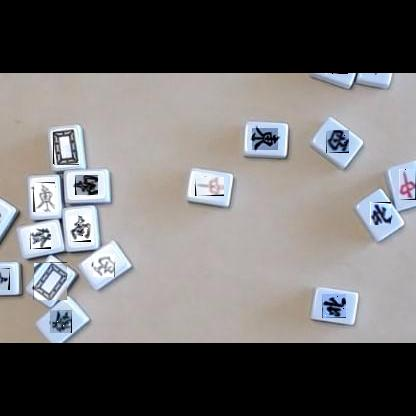1z: (33, 182, 55, 212), (252, 128, 278, 150)
2z: (70, 216, 91, 242), (75, 175, 98, 195), (0, 268, 10, 290)
3z: (326, 130, 349, 153), (93, 254, 115, 277), (325, 73, 348, 74)
4z: (322, 294, 346, 318), (370, 202, 391, 225)
5z: (33, 262, 67, 300), (53, 129, 79, 165)
6z: (50, 310, 72, 333), (30, 227, 51, 249)
7z: (195, 177, 224, 196), (399, 169, 416, 200)
